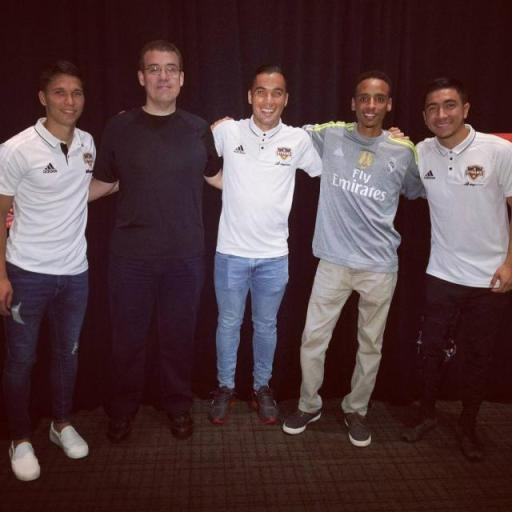Adidas: (42, 161, 58, 174), (233, 142, 246, 156), (423, 168, 436, 180)
Emirates: (330, 170, 385, 200)
